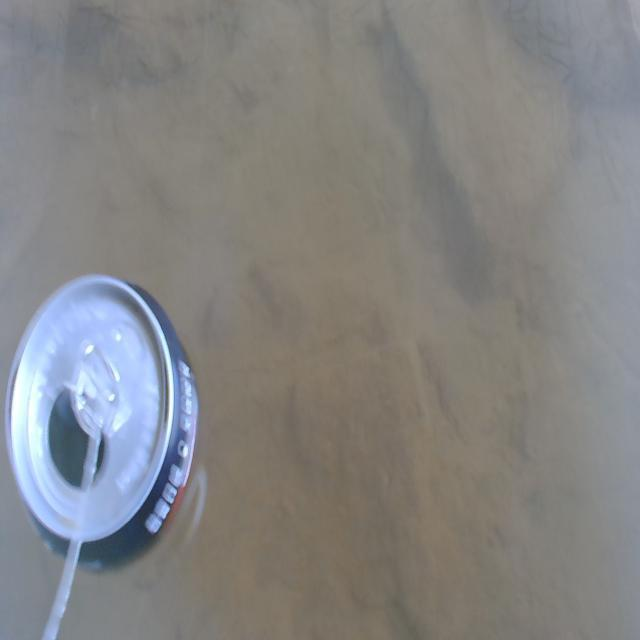garbage: (4, 272, 199, 573)
